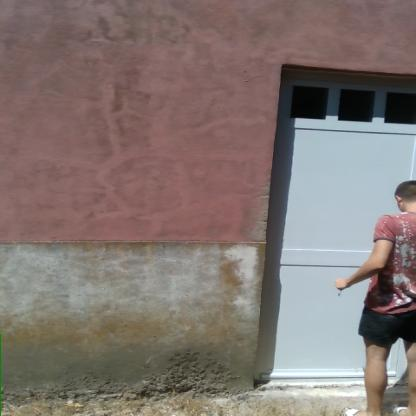closed: (256, 53, 415, 396)
